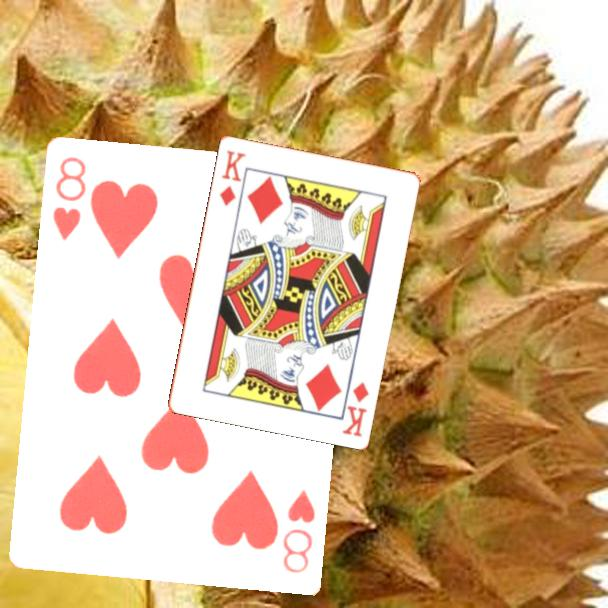d13: (216, 147, 249, 208), (339, 378, 372, 439)
h08: (279, 487, 318, 577), (50, 154, 89, 244)
